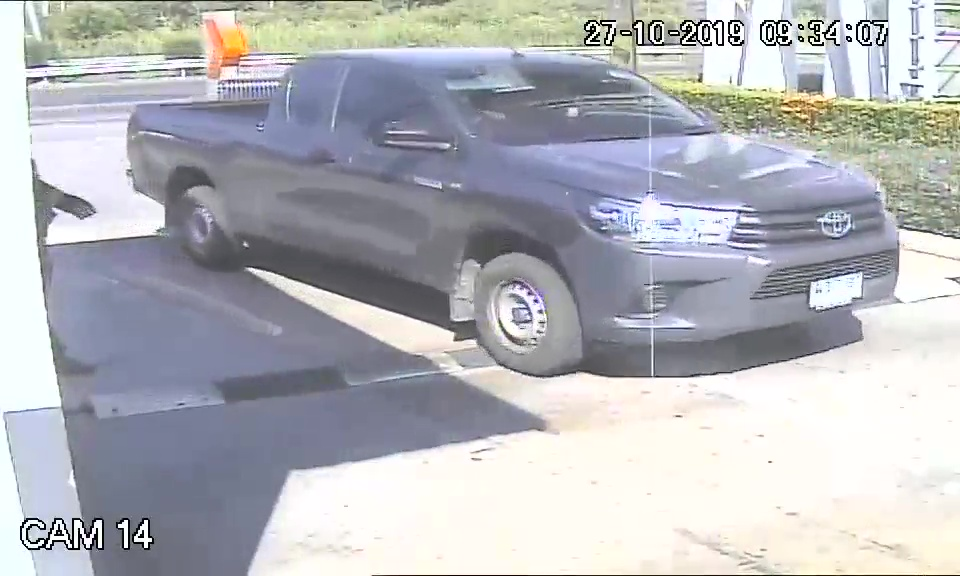pickup: (127, 41, 903, 375)
